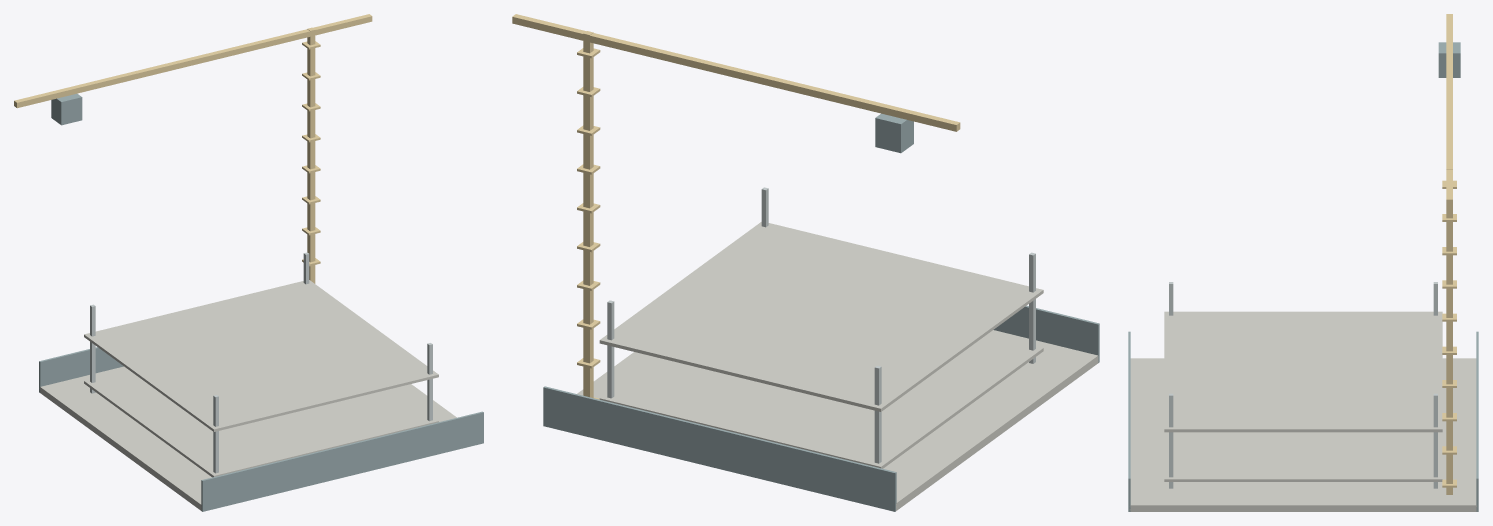
File: remaster_site_2_1.glb
3 renders of one model, left to right at view 1: azimuth 30°, elevation 25°; view 2: azimuth 150°, elevation 25°; view 3: azimuth 270°, elevation 25°, orthographic. The views are drawn at different scales.
Parts seen in each view (by area): view 1: remaster_site_2_1 stone, remaster_site_2_1 roof, remaster_site_2_1 gold, remaster_site_2_1 metal; view 2: remaster_site_2_1 stone, remaster_site_2_1 roof, remaster_site_2_1 gold, remaster_site_2_1 metal; view 3: remaster_site_2_1 stone, remaster_site_2_1 gold, remaster_site_2_1 roof, remaster_site_2_1 metal.
Part boxes in pixels (box(x1,y1,x2,y2)): remaster_site_2_1 stone: box(39, 280, 456, 510); remaster_site_2_1 roof: box(39, 93, 483, 511); remaster_site_2_1 gold: box(14, 14, 372, 283); remaster_site_2_1 metal: box(90, 252, 432, 473); remaster_site_2_1 stone: box(577, 222, 1098, 510); remaster_site_2_1 roof: box(543, 113, 1099, 511); remaster_site_2_1 gold: box(512, 14, 960, 399); remaster_site_2_1 metal: box(607, 187, 1035, 463); remaster_site_2_1 stone: box(1129, 311, 1477, 511); remaster_site_2_1 gold: box(1442, 14, 1456, 494); remaster_site_2_1 roof: box(1128, 42, 1478, 511); remaster_site_2_1 metal: box(1169, 282, 1437, 488).
Size of the model in its own units: 24 by 20 by 19.14.
